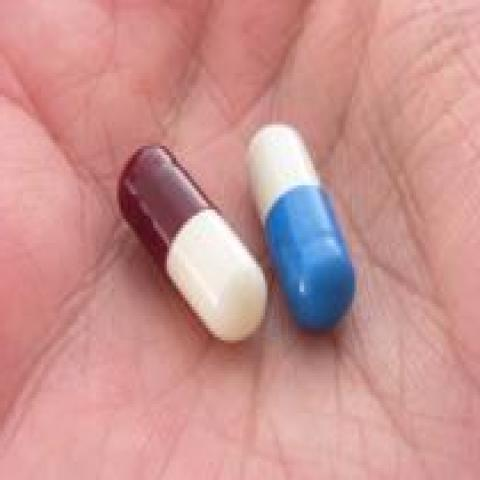Pill: (90, 101, 263, 366), (250, 96, 360, 346)
